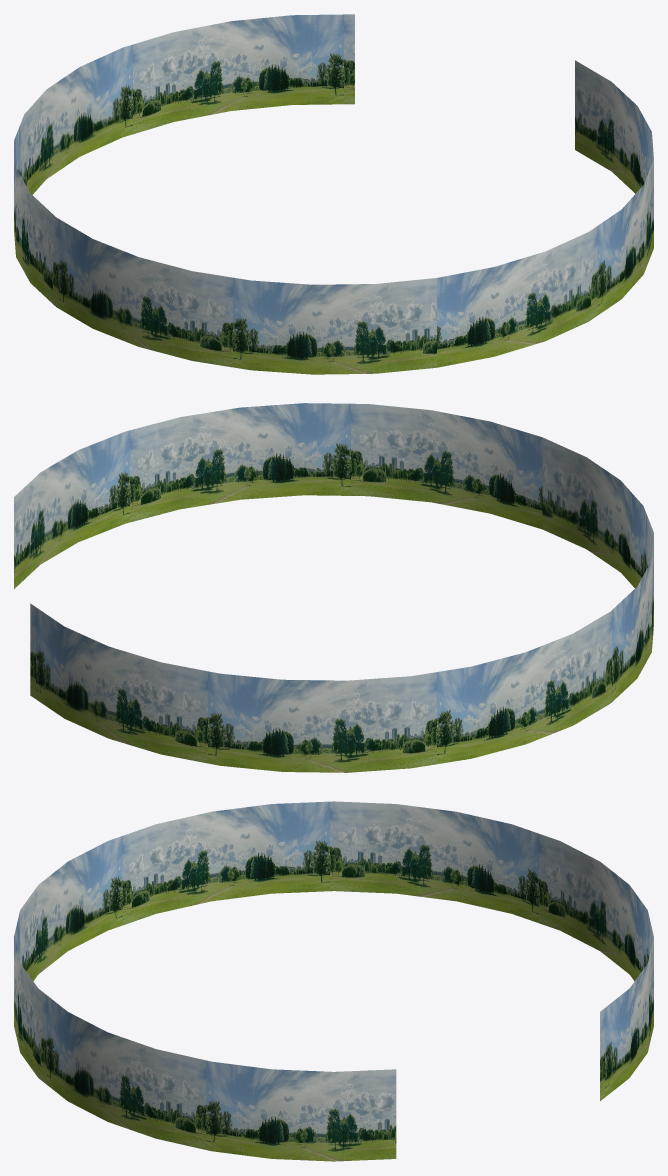
Rendered from Back.fbx.
The picture shows the model from 3 angles, top to bottom: view 1: azimuth 30°, elevation 25°; view 2: azimuth 150°, elevation 25°; view 3: azimuth 270°, elevation 25°; orthographic projection. The views are drawn at different scales.
Parts seen in each view (by area): view 1: Cylinder.011; view 2: Cylinder.011; view 3: Cylinder.011.
Part boxes in pixels (bbox=[...]): Cylinder.011: bbox=[14, 14, 653, 374]; Cylinder.011: bbox=[14, 403, 653, 772]; Cylinder.011: bbox=[14, 801, 653, 1161].
Size of the model in its own units: 18316 by 2831 by 18316.
1 material, 1 textured.
